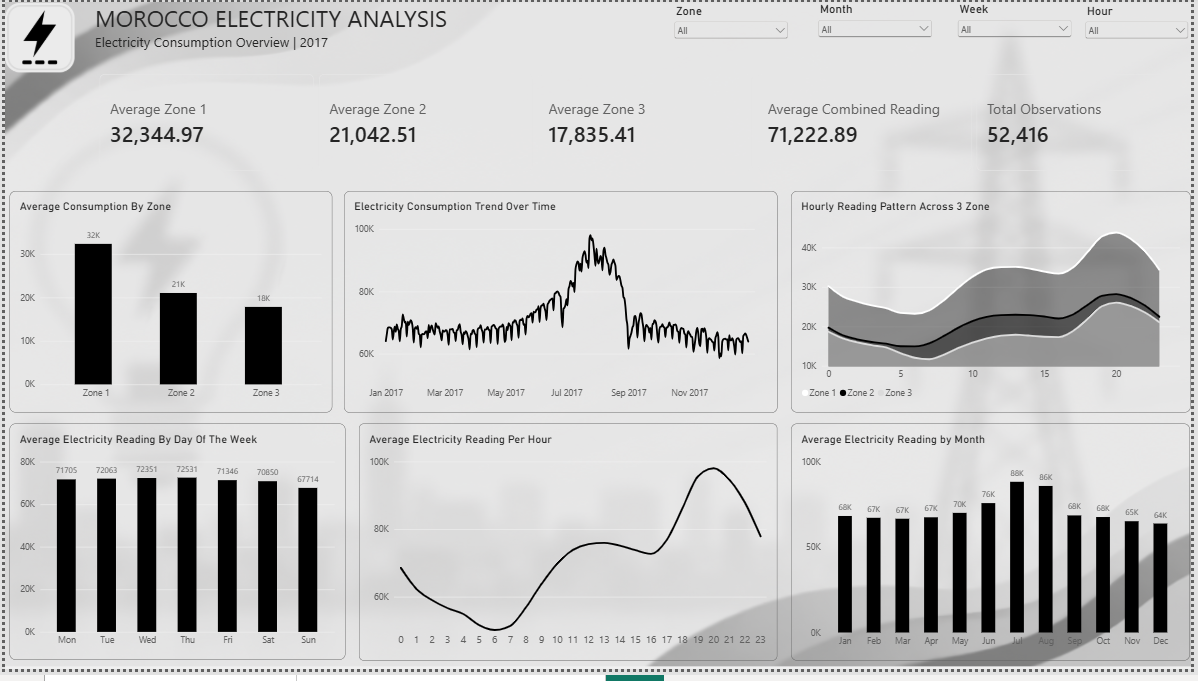

This screenshot's page, from the dashboard's own definition file:
{"tool":"powerbi","page":{"name":"Consumption Overview","canvas":[1920,1080],"ordinal":0},"visuals":[{"type":"cardVisual","fields":{"Data":["All Measures (2).Average Zone 1","All Measures (2).Average Zone 2","All Measures (2).Average Zone 3","All Measures (2).Average Combined Reading","All Measures (2).Total Observations"]},"box":[151.9,115.4,1768.1,158],"z":0},{"type":"clusteredColumnChart","title":"Average Consumption By Zone","fields":{"Category":["Zone_Comparision.Zone"],"Y":["All Measures (2).Average Zone Reading"]},"box":[6.1,306.8,522.5,358.5],"z":1000},{"type":"clusteredColumnChart","title":"Average Electricity Reading by Month","fields":{"Category":["DateTable.Month"],"Y":["All Measures (2).Average Combined Reading"]},"box":[1272.7,682.5,646.1,383.8],"z":2000},{"type":"clusteredColumnChart","title":"Average Electricity Reading By Day Of The Week","fields":{"Category":["DateTable.Day Name"],"Y":["All Measures (2).Average Combined Reading"]},"box":[6.1,683.5,543.8,382.8],"z":3000},{"type":"lineChart","title":"Average Electricity Reading Per Hour","fields":{"Category":["Power_Consumption1.Hour"],"Y":["All Measures (2).Average Combined Reading"]},"box":[573.2,682.5,677.6,383.8],"z":4000},{"type":"lineChart","title":"Electricity Consumption Trend Over Time","fields":{"Category":["DateTable.Date"],"Y":["All Measures.Average Combined Reading"]},"box":[548.9,306,701.9,359.5],"z":5000},{"type":"lineChart","title":"Hourly Reading Pattern Across 3 Zone","fields":{"Category":["Zone_Comparison.Hour"],"Series":["Zone_Comparison.Zone"],"Y":["All Measures.Average Zone Reading"]},"box":[1272.9,306.8,647.1,358.5],"z":6000},{"type":"textbox","box":[145.8,0,884.1,85.1],"z":7000},{"type":"slicer","fields":{"Values":["Zone_Comparison.Zone"]},"box":[1078.5,3,194.4,82],"z":7001},{"type":"slicer","fields":{"Values":["DateTable.Month"]},"box":[1312.4,0,194,82],"z":7002},{"type":"slicer","fields":{"Values":["DateTable.Day Name"]},"box":[1537.2,0,194,82],"z":7003},{"type":"slicer","fields":{"Values":["Power_Consumption.Hour"]},"box":[1743.8,3,177,82],"z":7004},{"type":"image","box":[0,0,112.4,115.4],"z":7005}]}

Visuals, with their boxes in screenshot pixels (x1, y1, x2, y2), scaled from the page's 1920x1080 canvas onto the 1198x681 screenshot:
cardVisual - All Measures (2).Average Zone 1 x All Measures (2).Average Zone 2: (95,73,1197,172)
"Average Consumption By Zone" clusteredColumnChart: (4,193,330,420)
"Average Electricity Reading by Month" clusteredColumnChart: (794,430,1197,672)
"Average Electricity Reading By Day Of The Week" clusteredColumnChart: (4,431,343,672)
"Average Electricity Reading Per Hour" lineChart: (358,430,780,672)
"Electricity Consumption Trend Over Time" lineChart: (342,193,780,420)
"Hourly Reading Pattern Across 3 Zone" lineChart: (794,193,1197,420)
textbox: (91,0,643,54)
slicer - Zone_Comparison.Zone: (673,2,794,54)
slicer - DateTable.Month: (819,0,940,52)
slicer - DateTable.Day Name: (959,0,1080,52)
slicer - Power_Consumption.Hour: (1088,2,1197,54)
image: (0,0,70,73)
